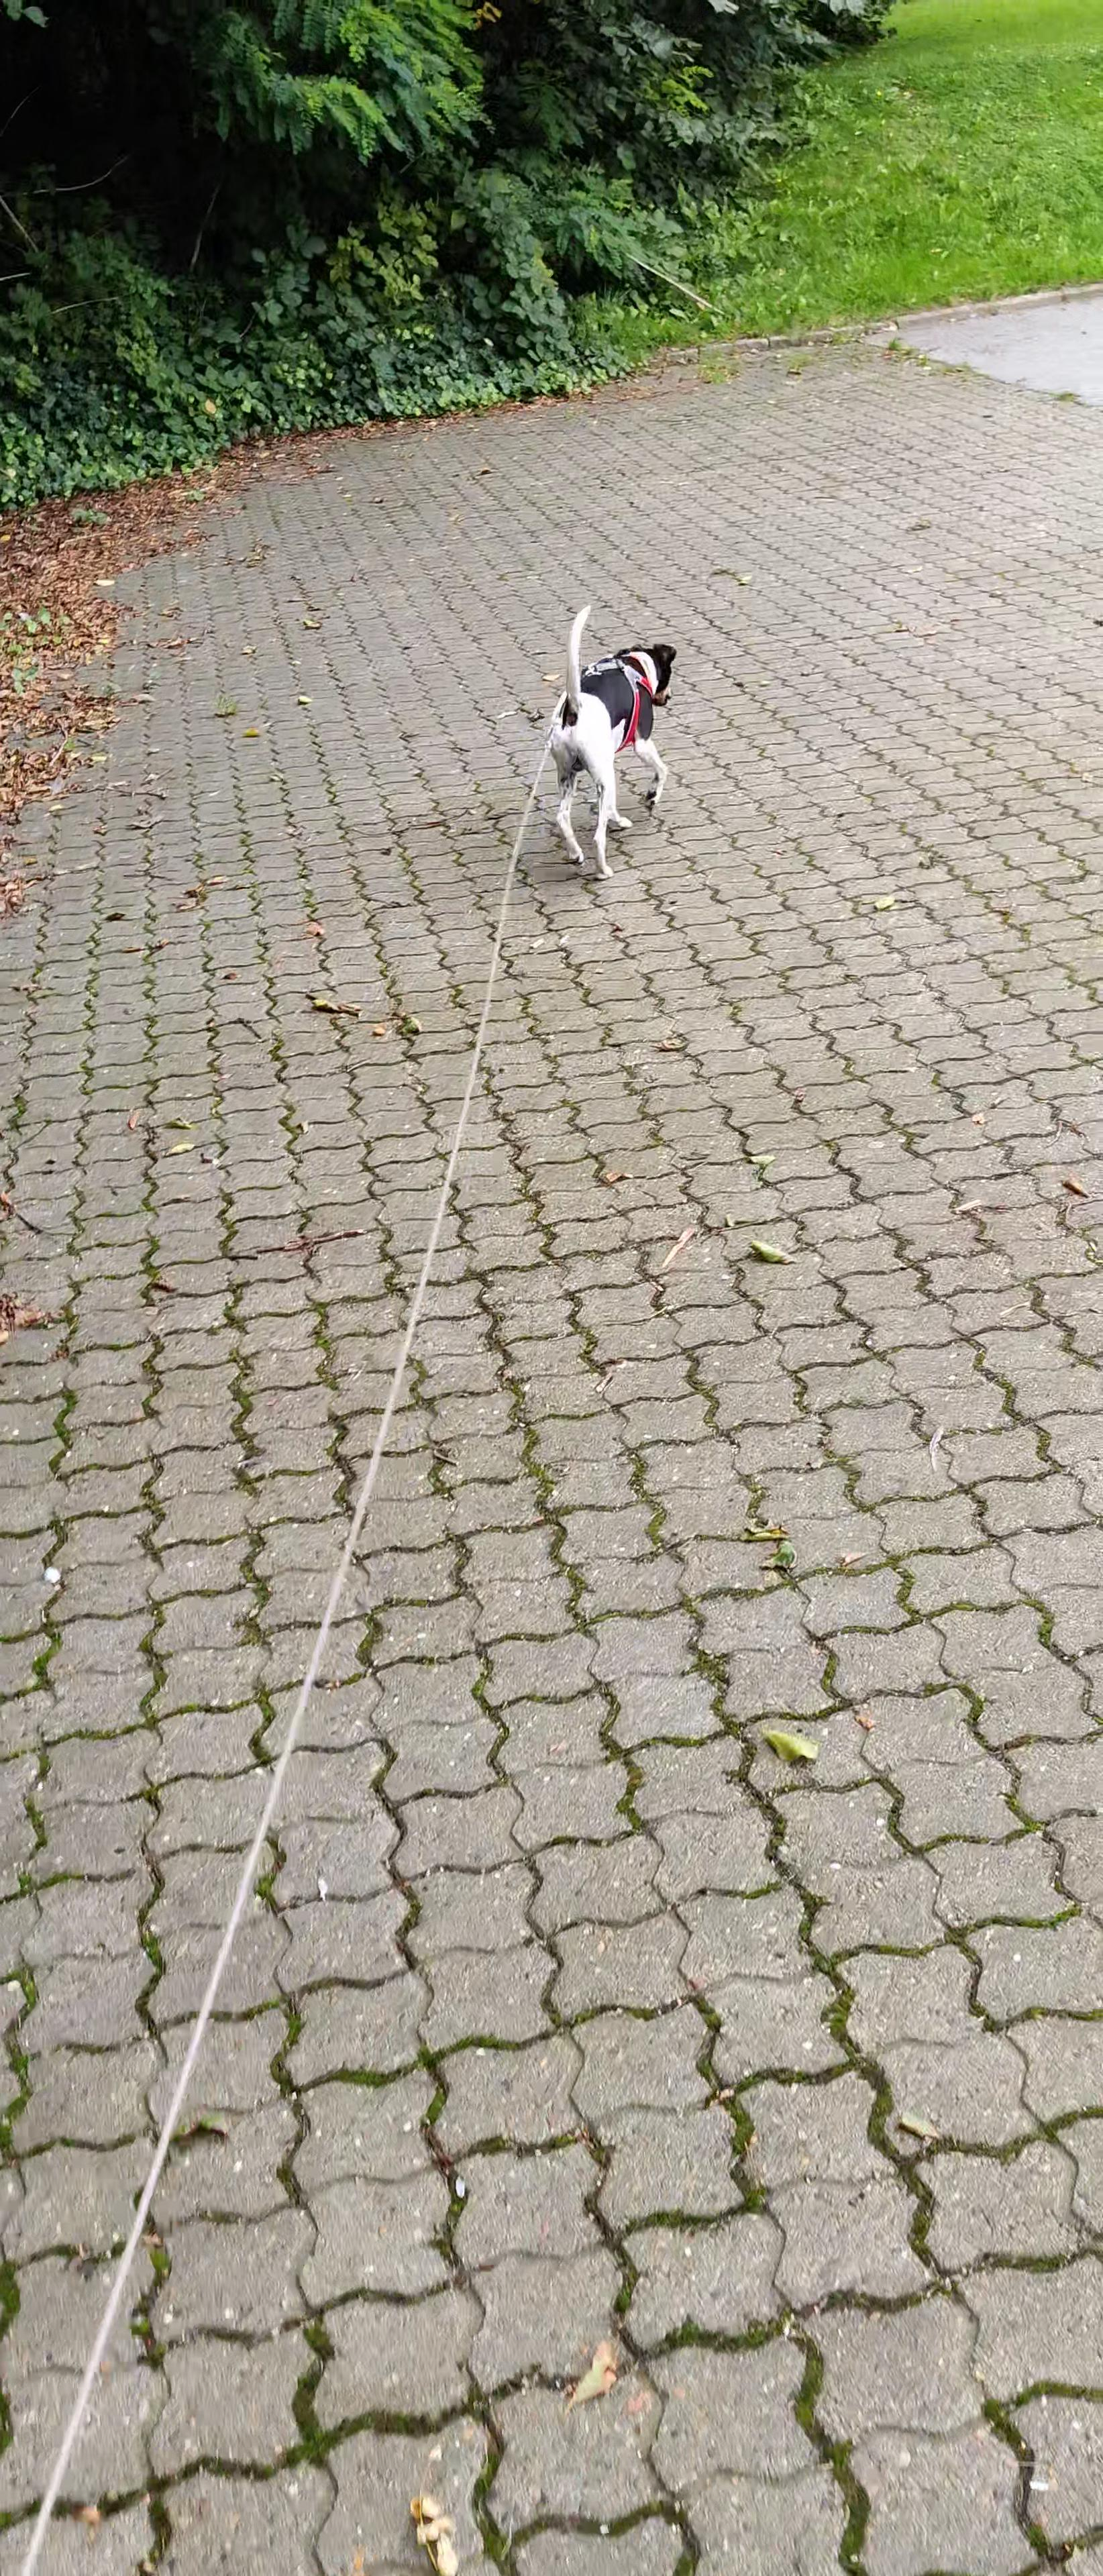Dog: (541, 595, 682, 879)
